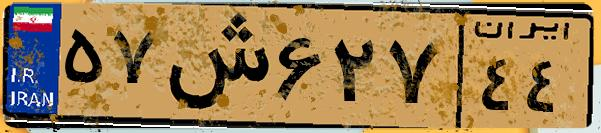2: (330, 28, 385, 110)
4: (475, 38, 525, 113), (525, 38, 570, 115)
5: (57, 26, 110, 100)
6: (270, 28, 330, 110)
7: (385, 28, 445, 110), (110, 28, 158, 98)
ش: (158, 12, 270, 120)
